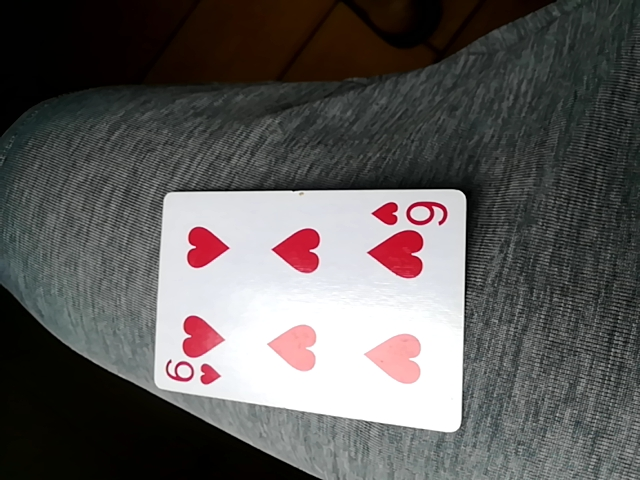hx 6: (152, 188, 468, 435)
